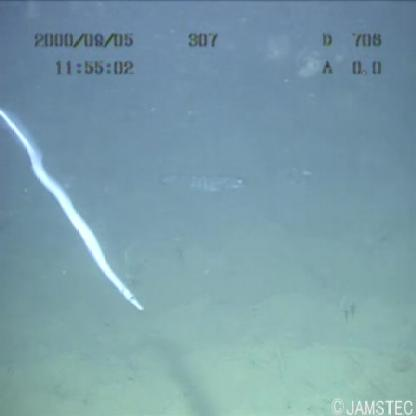Bio: (1, 98, 145, 321)
